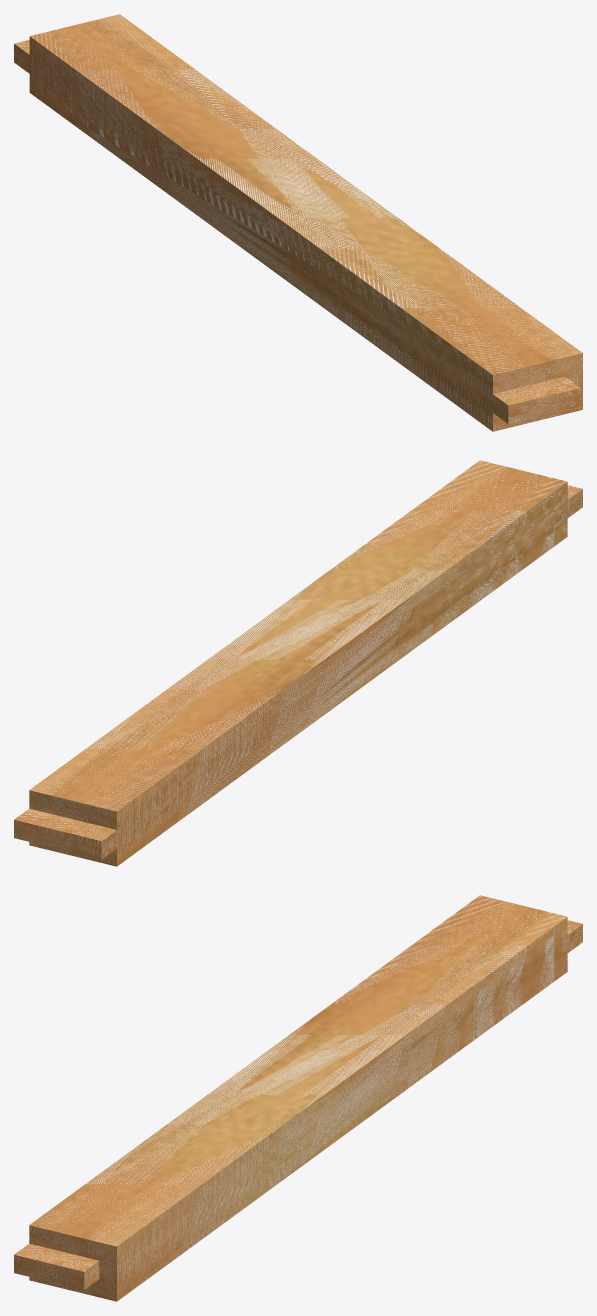
The model's file is original-33.obj.
3 renders of one model, top to bottom at view 1: azimuth 30°, elevation 25°; view 2: azimuth 150°, elevation 25°; view 3: azimuth 330°, elevation 25°, orthographic. The views are drawn at different scales.
Parts seen in each view (by area): view 1: drawer_kicker2/drawer_kicker12/mesh67/mesh67-geometry#mesh67-geo; view 2: drawer_kicker2/drawer_kicker12/mesh67/mesh67-geometry#mesh67-geo; view 3: drawer_kicker2/drawer_kicker12/mesh67/mesh67-geometry#mesh67-geo.
Part boxes in pixels (x1,y1,x2,y2): drawer_kicker2/drawer_kicker12/mesh67/mesh67-geometry#mesh67-geo: [14, 14, 582, 431]; drawer_kicker2/drawer_kicker12/mesh67/mesh67-geometry#mesh67-geo: [14, 460, 582, 866]; drawer_kicker2/drawer_kicker12/mesh67/mesh67-geometry#mesh67-geo: [14, 895, 582, 1301].
Size of the model in its own units: 0.0381 by 0.0228 by 0.3616.
Materials: 2 (1 with a texture image).
